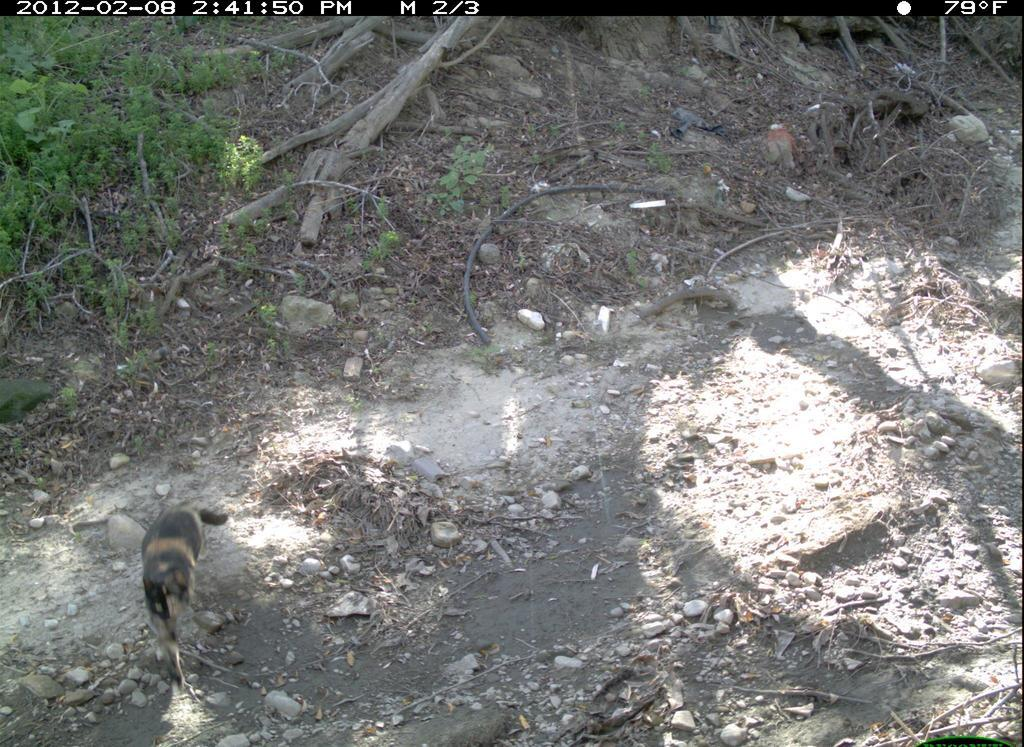cat: (135, 493, 240, 699)
